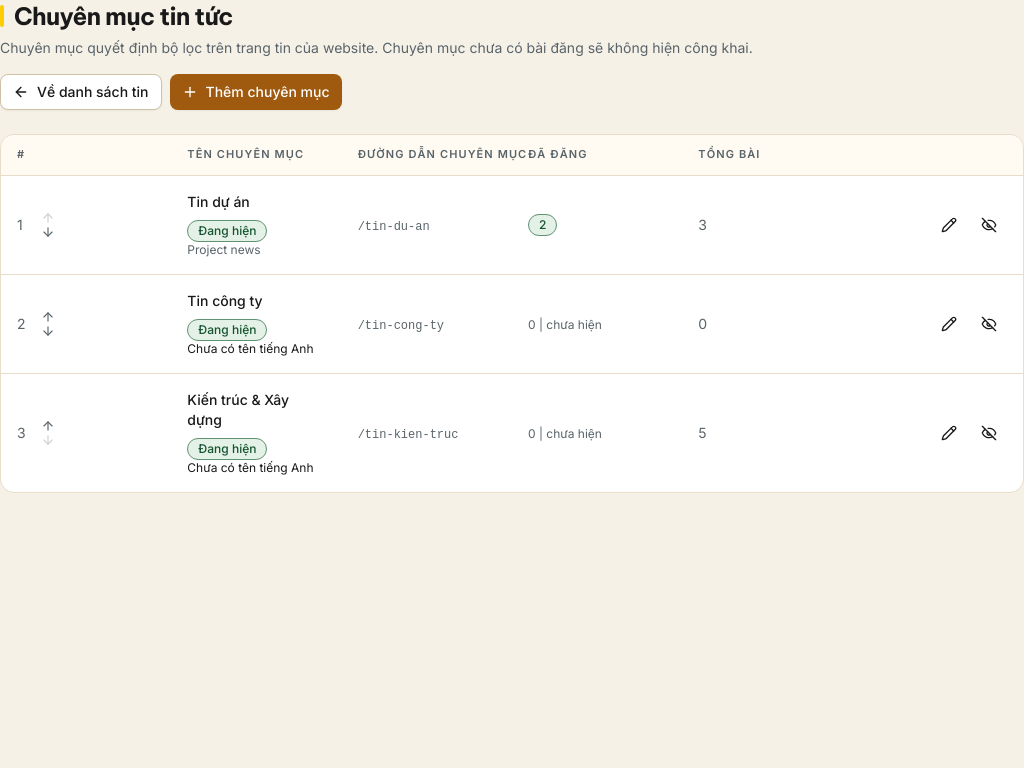
Test: NewsCategoriesPage — tạo chuyên mục › slug sinh tự động từ tên tiếng Việt, có bỏ dấu
Click the button "Thêm chuyên mục": (256, 92) [170, 74, 342, 110]
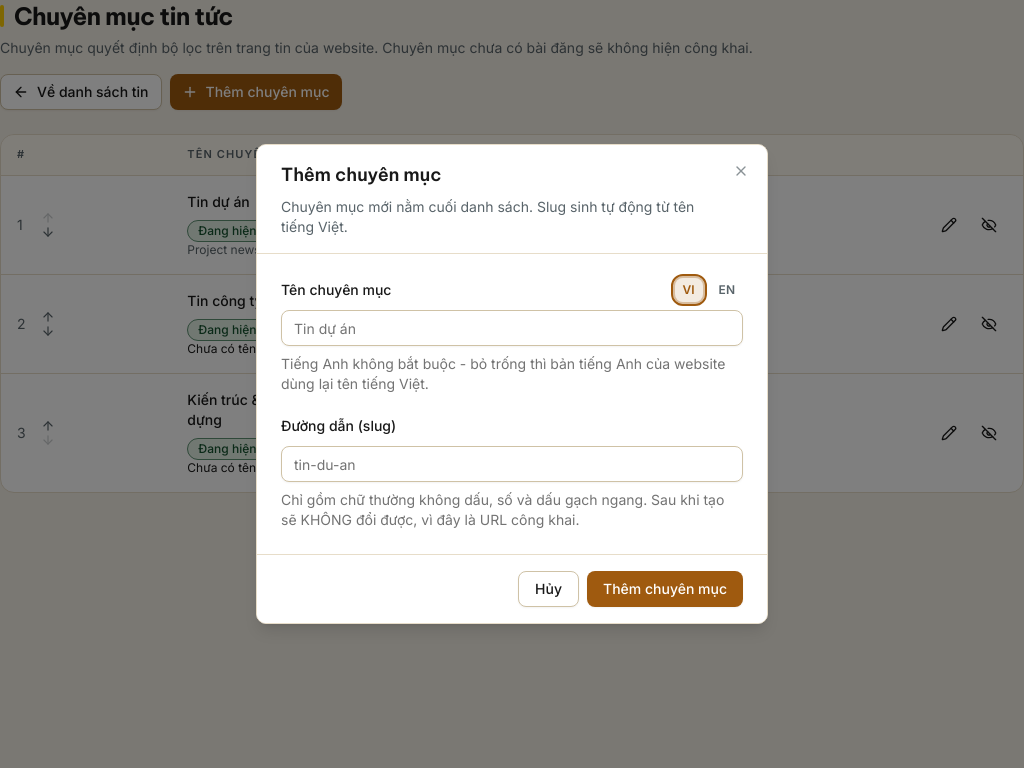
In the field labelled "Tên chuyên mục": (512, 328) [281, 310, 743, 346], type "Kiến trúc & Xây dựng"
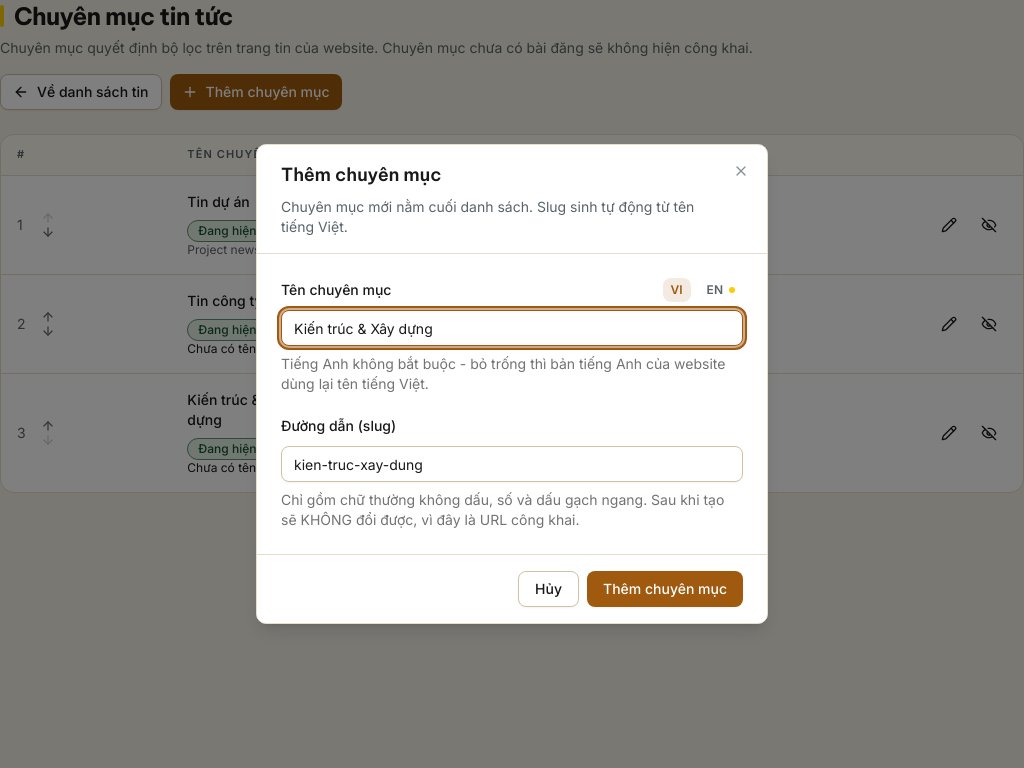
Check: the field showing "kien-truc-xay-dung" is shown, box [281, 446, 743, 482]
